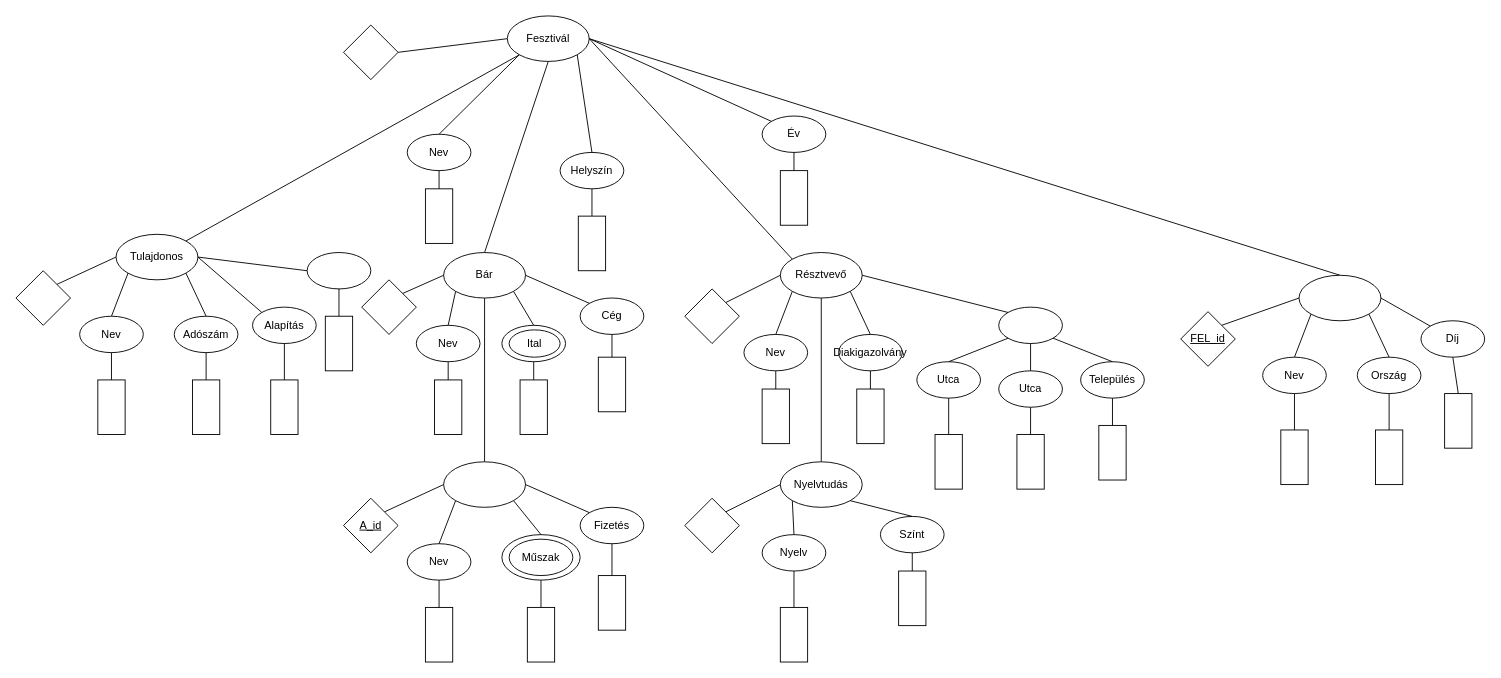
This 1501x678 diagram has some shape labels left out. Each missing label, with the centre of its shape:
"Alkalmazott" goes at (x=484, y=484).
"B_id" goes at (x=388, y=306).
"Bevétel" goes at (x=338, y=270).
"Fellépő" goes at (x=1339, y=297).
"FESZ_id" goes at (x=370, y=52).
"lakcím" goes at (x=1030, y=325).
"NY_id" goes at (x=711, y=525).
"R_id" goes at (x=711, y=316).
"T_id" goes at (x=43, y=297).
